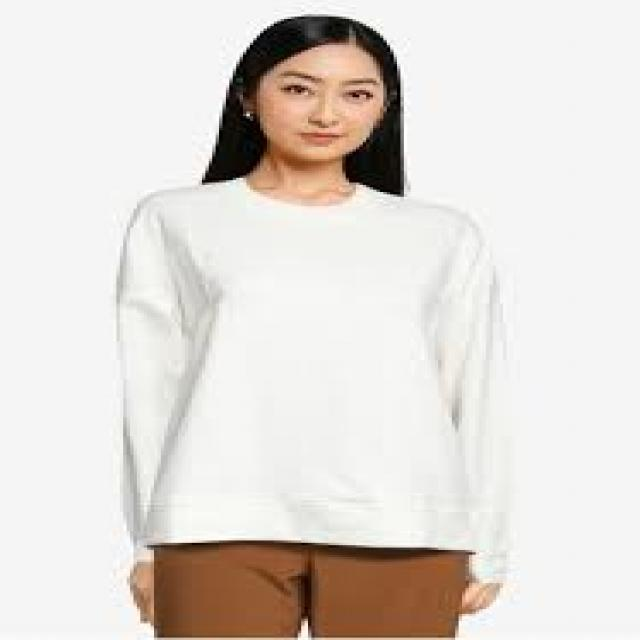plain: (70, 178, 562, 576)
